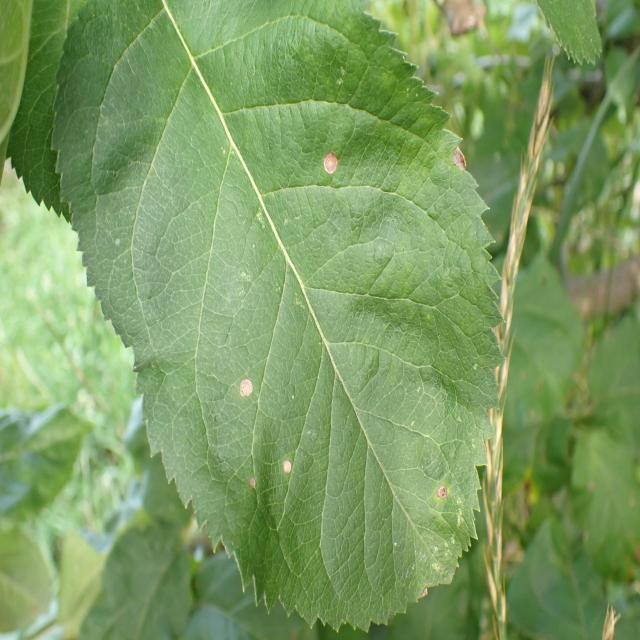frog-eye-leaf-spot: (11, 1, 506, 632)
